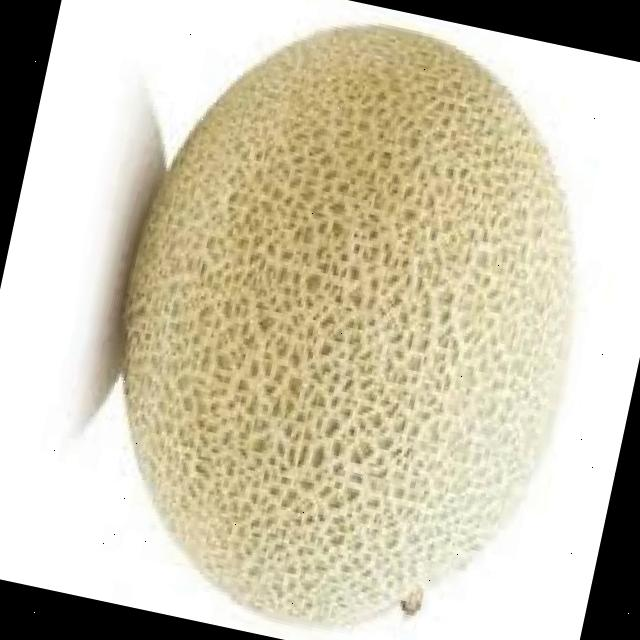Hami Melon: (64, 0, 632, 640)
